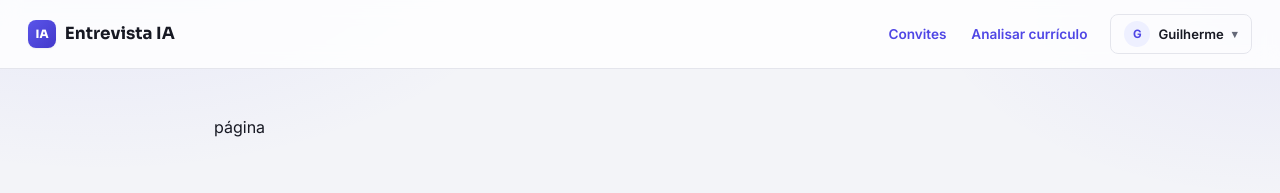
Test: Layout › o menu de conta abre no clique e traz "Detalhes da conta", "Configurações" e "Sair"
Expected: the menu item "Sair" is not shown
Click the button "G Guilherme ▾" at (1181, 34), box [1110,14,1252,54]
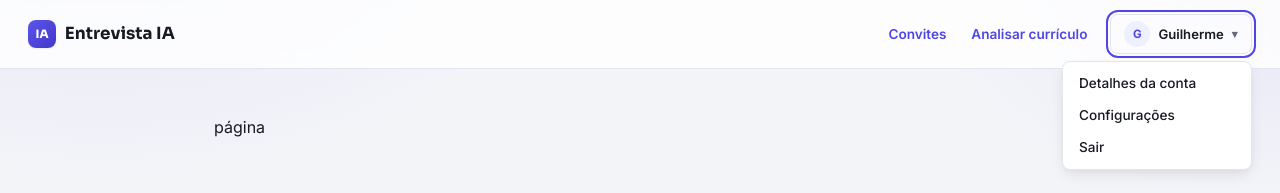
Now the menu item "Sair" is shown, box [1069,131,1245,163]
